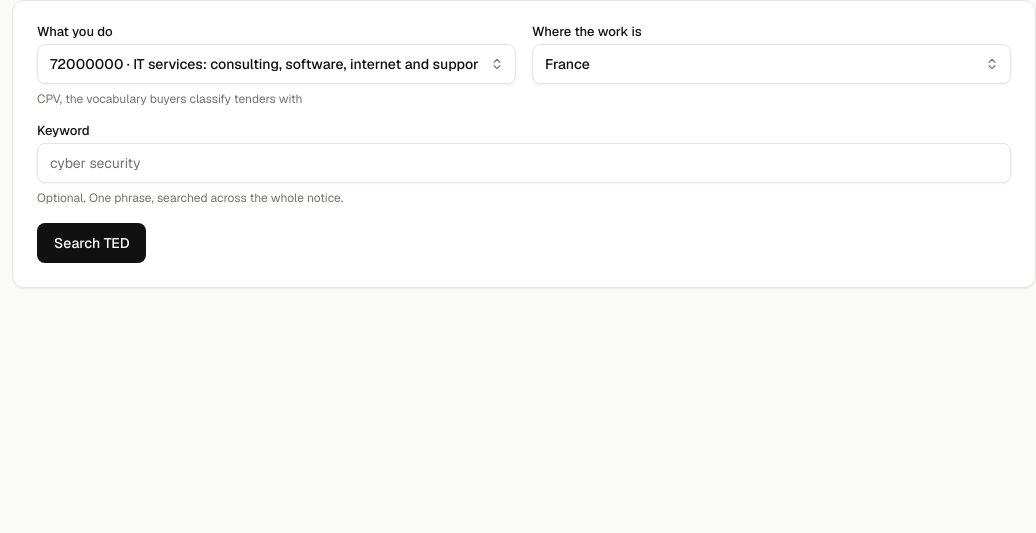
a result card › names the buyer country when it is the one searched for too
The width and height of the screenshot is (1036, 533).
Step 1. Click the button "Search TED" → {"x": 92, "y": 243}, box [37,223,146,263]
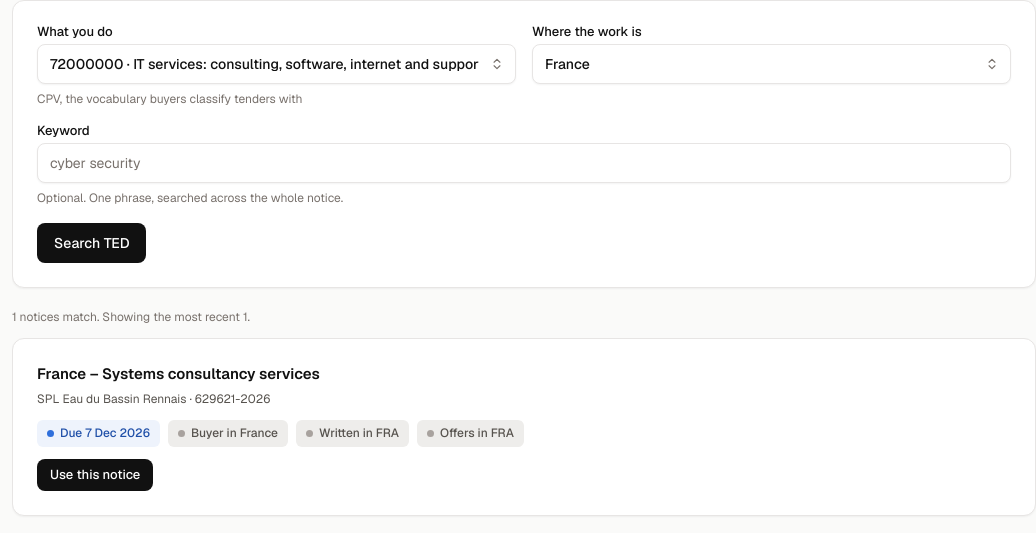
Expected: the text "Buyer in France" is shown, [168,420,288,447]
